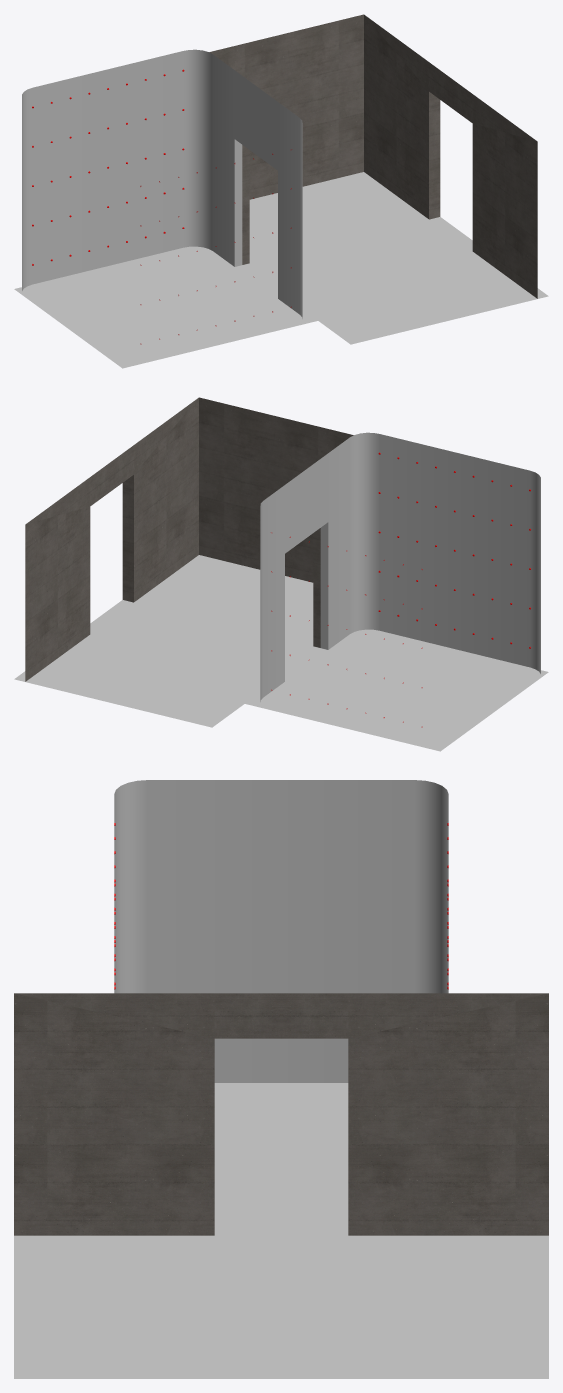
File: HC_cont1_096.gltf
3 views of the same model, one above another, from view 1: azimuth 30°, elevation 25°; view 2: azimuth 150°, elevation 25°; view 3: azimuth 270°, elevation 25° (orthographic). The views are drawn at different scales.
Visible parts, largest first — view 1: Cube; view 2: Cube; view 3: Cube.
Part boxes in pixels (box(x1,y1,x2,y2)): Cube: box(14, 14, 548, 368); Cube: box(14, 397, 548, 751); Cube: box(14, 780, 548, 1378).
Size of the model in its own units: 10.47 by 5 by 8.
